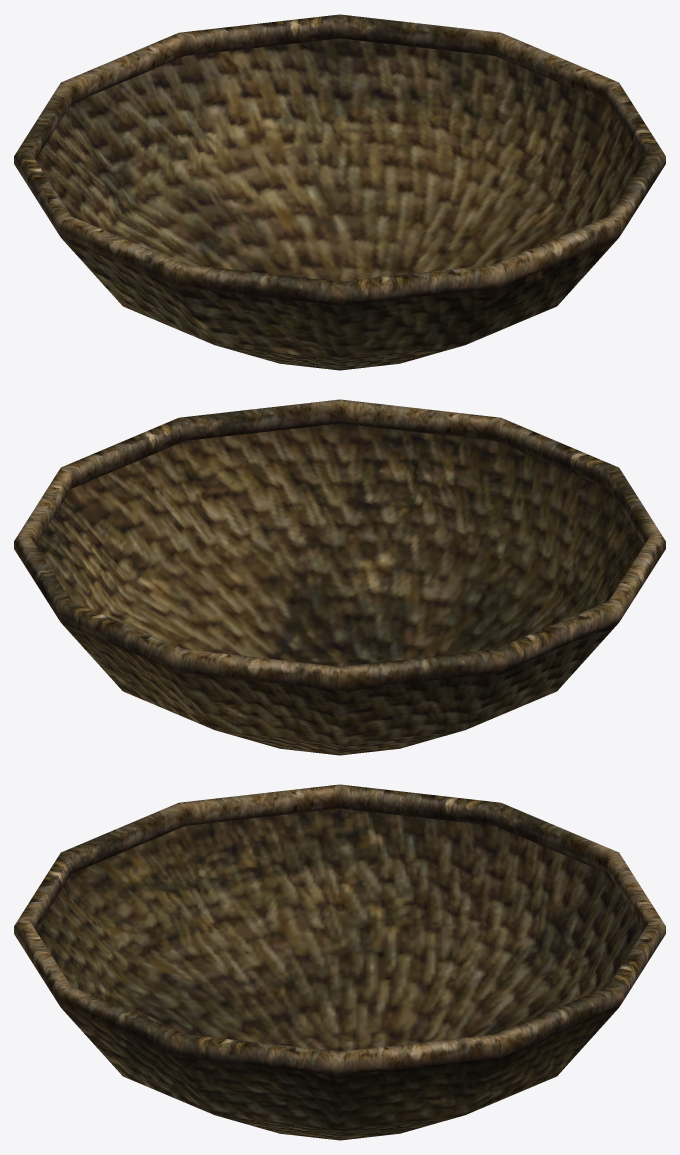
Rendered from basket.dae.
The picture shows the model from 3 angles, top to bottom: view 1: azimuth 30°, elevation 25°; view 2: azimuth 150°, elevation 25°; view 3: azimuth 270°, elevation 25°; orthographic projection.
Parts seen in each view (by area): view 1: polySurface1; view 2: polySurface1; view 3: polySurface1.
Part boxes in pixels (box(x1,y1,x2,y2)): polySurface1: box(14, 14, 665, 370); polySurface1: box(14, 399, 665, 755); polySurface1: box(14, 784, 665, 1140).
Size of the model in its own units: 0.5072 by 0.1602 by 0.5072.
